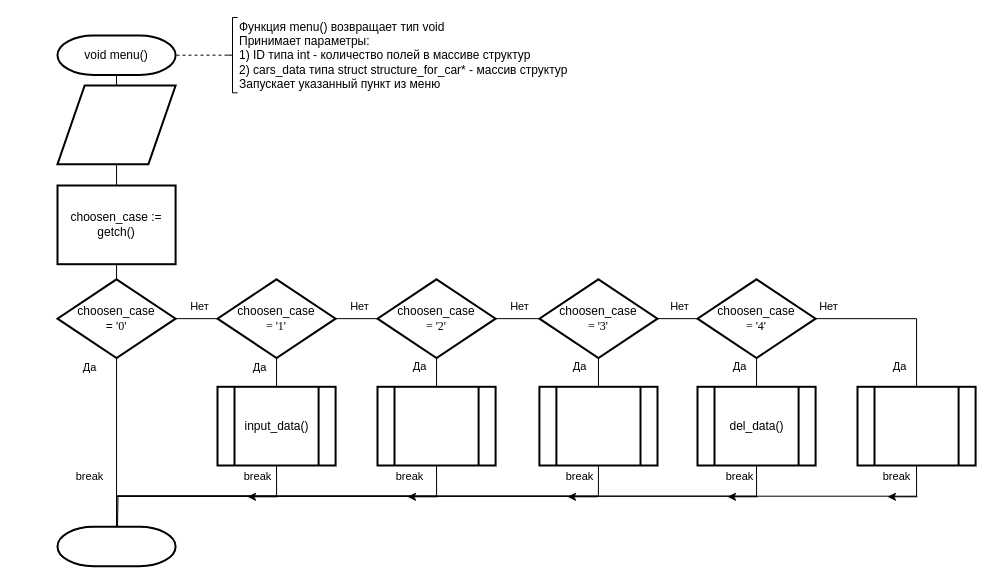
The diagram is 994 pixels wide and 585 high, and some of its shapes have lost their labels. Each missing label, with the centre of its shape:
"choosen_case" belongs at point 116,124.
"menu()" belongs at point 916,425.
"output_data()" belongs at point 436,425.
"sort_data()" belongs at point 598,425.
"Конец" belongs at point 116,546.
